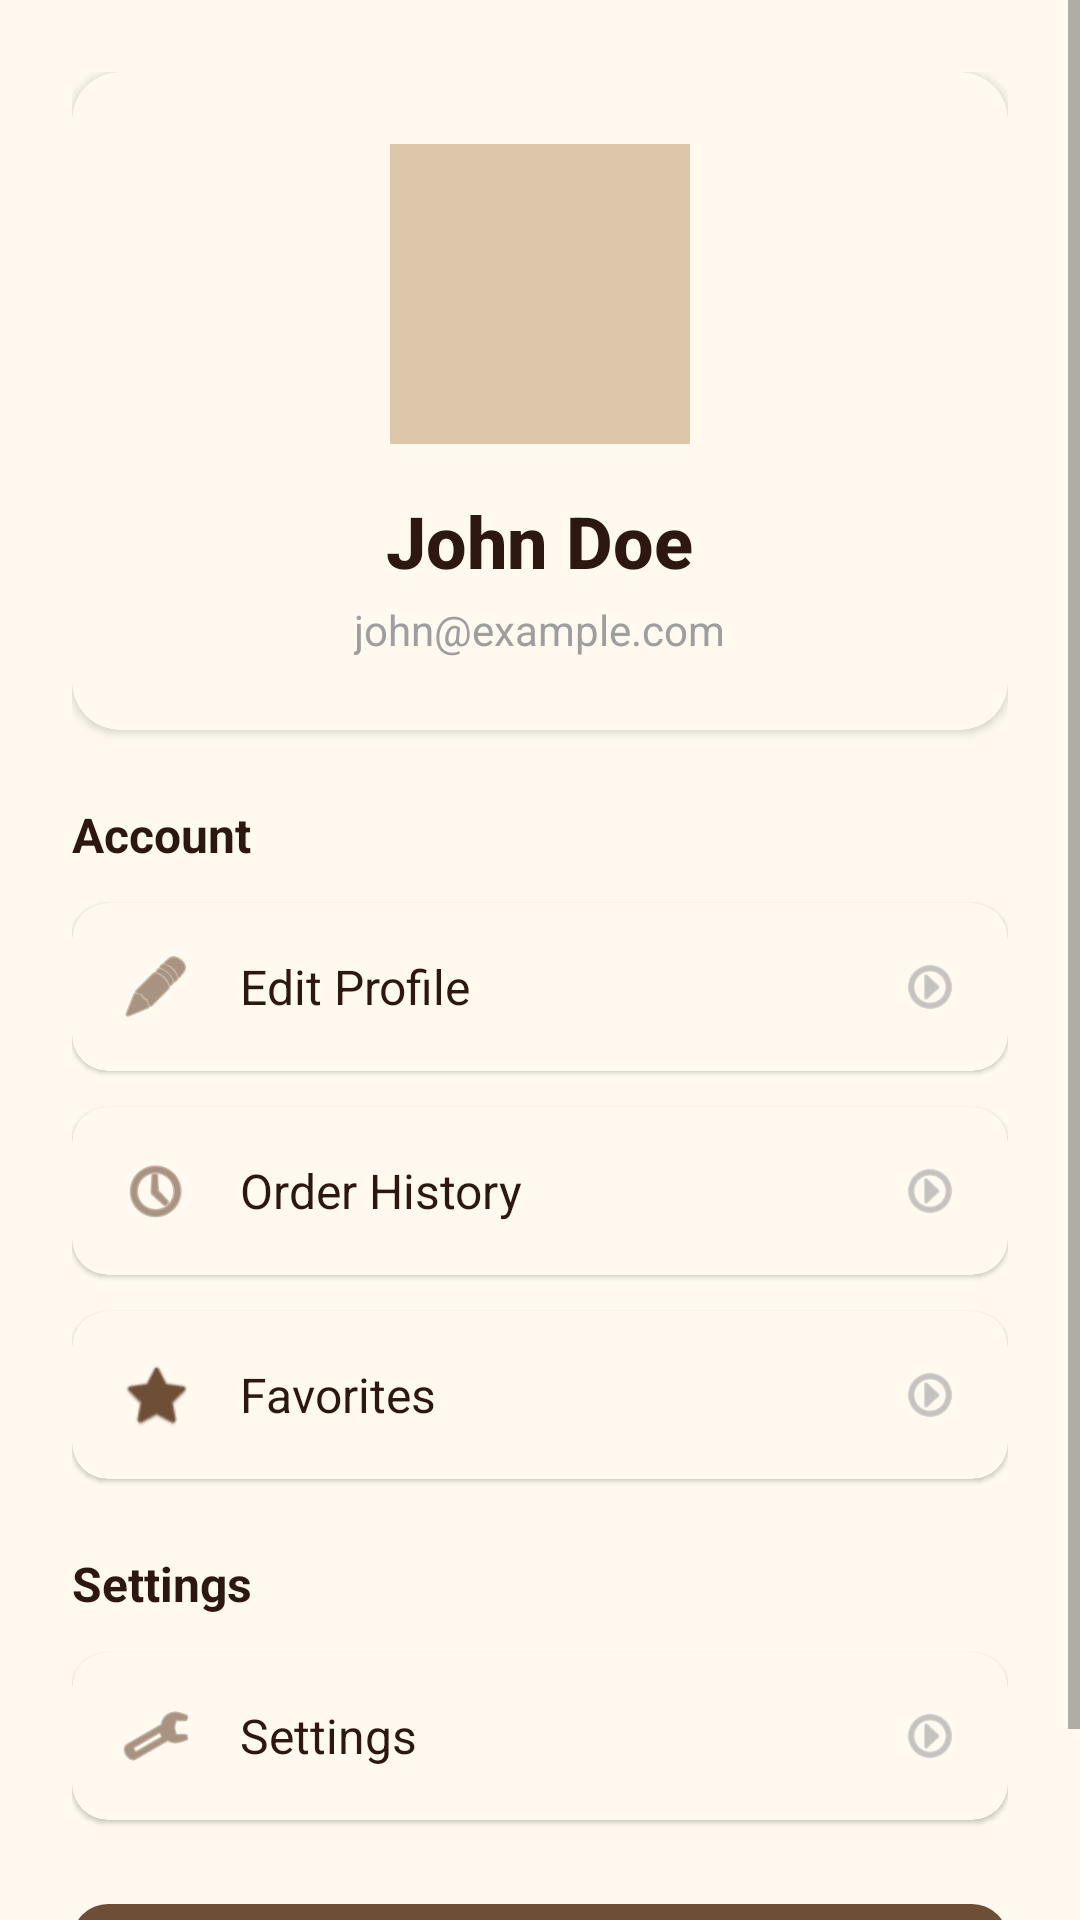

Icon click points for this 1080px x 1920px phone screenshot, format (x,y):
preferences: (156,1736)
recent history: (156,1191)
star on: (157,1395)
